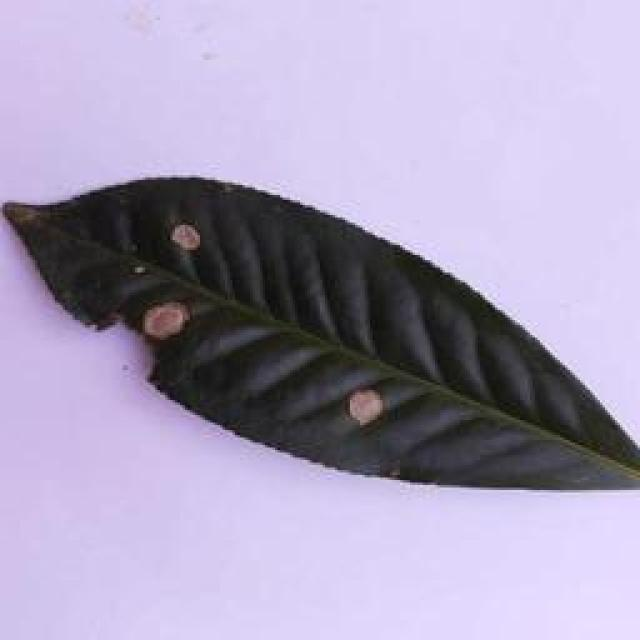Gray Blight: (0, 174, 640, 512)
